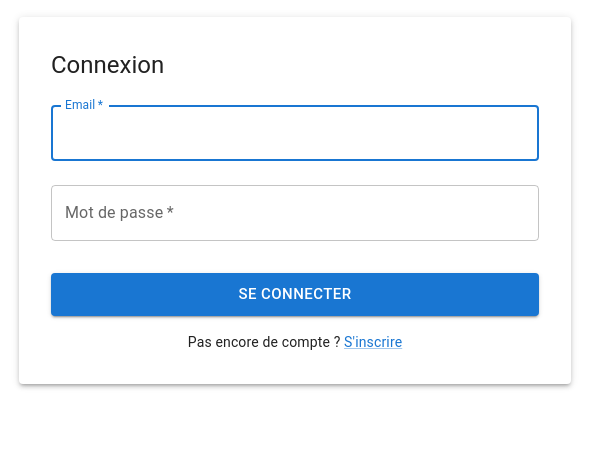
Scenario: LoginPage › shows error from API detail on login failure
The image size is (591, 470).
Click the button "Se connecter" at [295, 295], box [51,273,539,316]
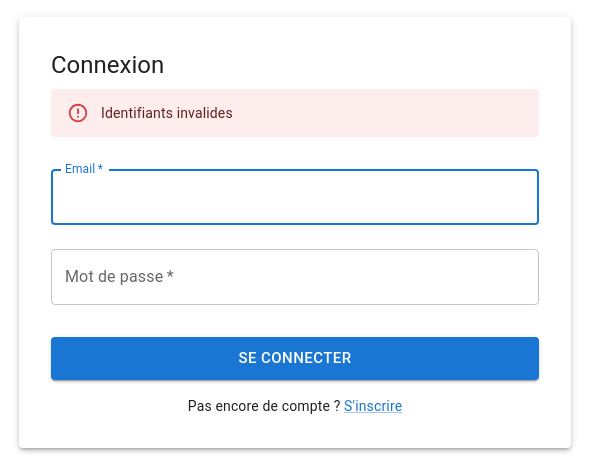
Expected: the text "Identifiants invalides" is shown, [101,105,233,121]
